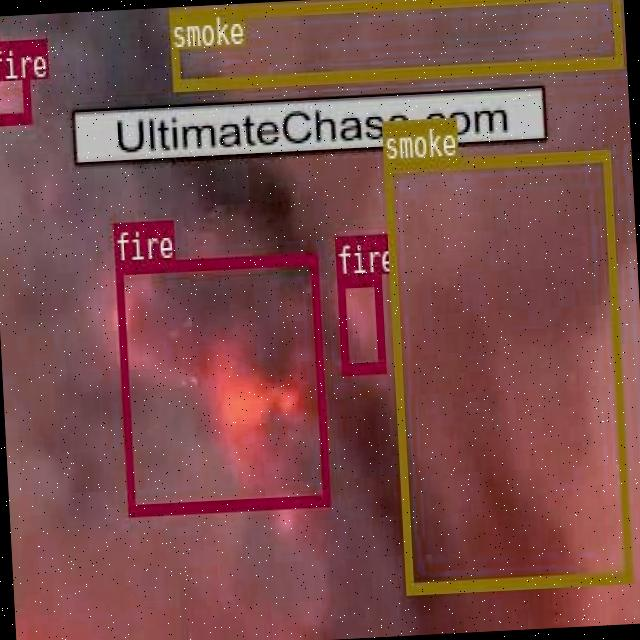fire: (114, 252, 328, 515), (336, 274, 384, 372), (0, 39, 29, 124)
smoke: (382, 150, 630, 592), (168, 0, 622, 89)
